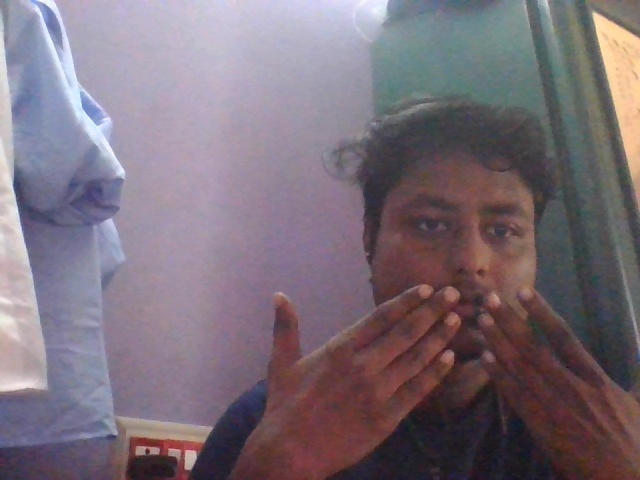thankyou: (231, 216, 640, 480)
